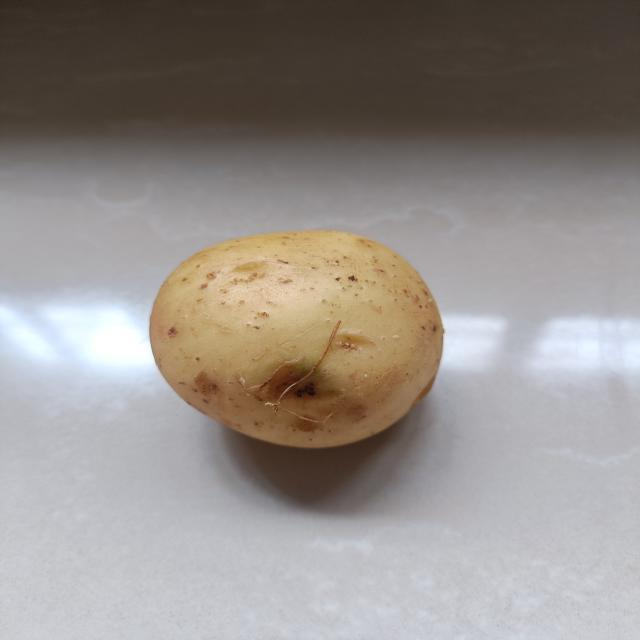potato: (139, 223, 451, 452)
